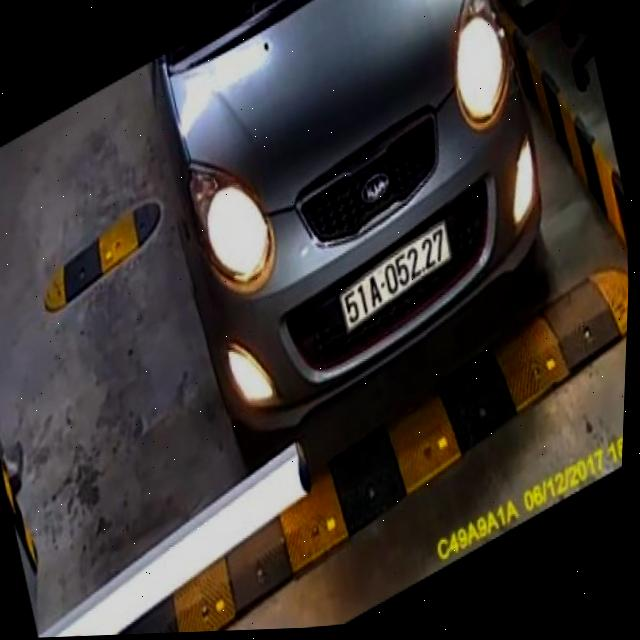car: (133, 0, 575, 468)
plate: (329, 219, 474, 339)
